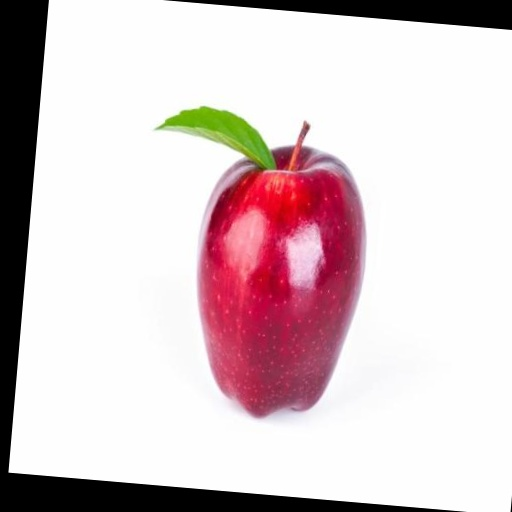fruit: (198, 130, 365, 416)
